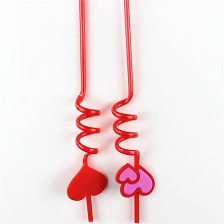drinking_straw: (107, 0, 159, 224), (62, 0, 111, 224)
